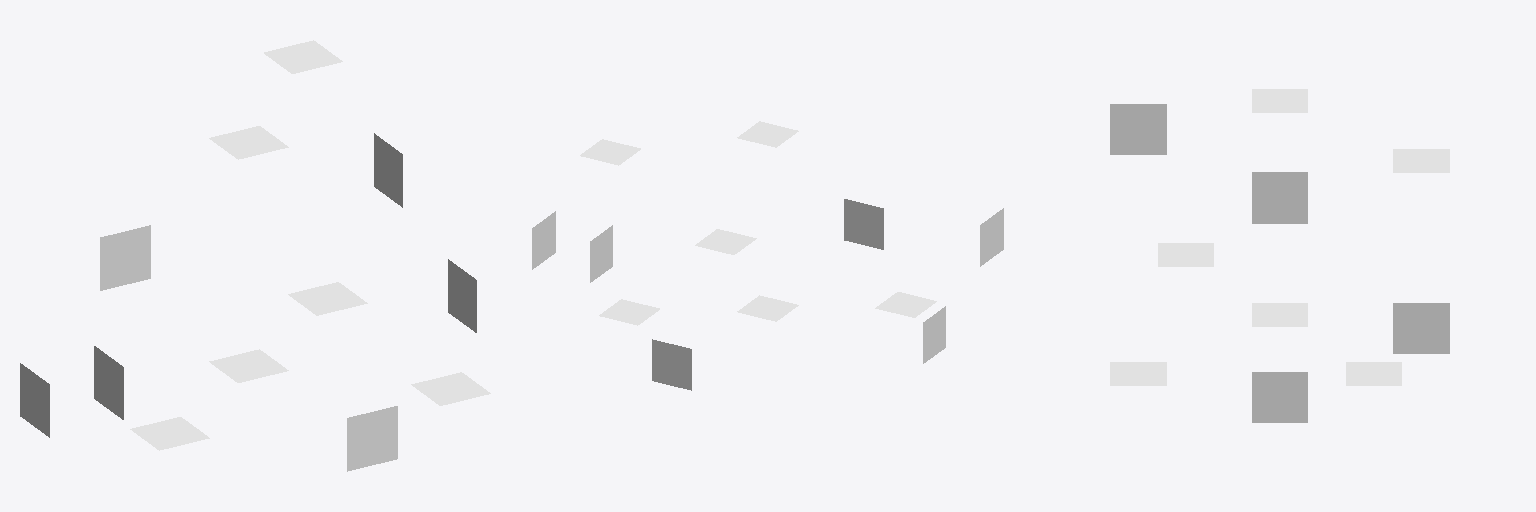
URDF robot description (marker_field_apriltags):
<?xml version="1.0"?>
<robot name="marker_field_apriltags">
  <!-- Base link -->
  <link name="world">
    <inertial>
      <mass value="0.001"/>
      <inertia ixx="1e-6" ixy="0" ixz="0" iyy="1e-6" iyz="0" izz="1e-6"/>
    </inertial>
  </link>

  <!-- Floor markers -->
  <link name="floor_center_tag0">
    <visual>
      <origin xyz="0 0 0" rpy="0 0 0"/>
      <geometry><mesh filename="tag_quad.obj" scale="0.6 0.6 0.01"/></geometry>
      <material name="tag0">
        <color rgba="1 1 1 1"/>
        <texture filename="../textures/tags_36h11/tag_0.png"/>
      </material>
    </visual>
  </link>
  <joint name="world_to_floor_center_tag0" type="fixed">
    <parent link="world"/><child link="floor_center_tag0"/><origin xyz="0 0 0" rpy="0 0 0"/>
  </joint>

  <link name="floor_gray_tag1">
    <visual>
      <origin xyz="0 0 0" rpy="0 0 0"/>
      <geometry><mesh filename="tag_quad.obj" scale="0.6 0.6 0.01"/></geometry>
      <material name="tag1">
        <color rgba="1 1 1 1"/>
        <texture filename="../textures/tags_36h11/tag_1.png"/>
      </material>
    </visual>
  </link>
  <joint name="world_to_floor_gray_tag1" type="fixed">
    <parent link="world"/><child link="floor_gray_tag1"/><origin xyz="1.5 1.0 0" rpy="0 0 0"/>
  </joint>

  <link name="floor_red_tag2">
    <visual>
      <origin xyz="0 0 0" rpy="0 0 0"/>
      <geometry><mesh filename="tag_quad.obj" scale="0.6 0.6 0.01"/></geometry>
      <material name="tag2">
        <color rgba="1 1 1 1"/>
        <texture filename="../textures/tags_36h11/tag_2.png"/>
      </material>
    </visual>
  </link>
  <joint name="world_to_floor_red_tag2" type="fixed">
    <parent link="world"/><child link="floor_red_tag2"/><origin xyz="-1.5 -1.0 0" rpy="0 0 0"/>
  </joint>

  <link name="floor_purple_tag3">
    <visual>
      <origin xyz="0 0 0" rpy="0 0 0"/>
      <geometry><mesh filename="tag_quad.obj" scale="0.6 0.6 0.01"/></geometry>
      <material name="tag3">
        <color rgba="1 1 1 1"/>
        <texture filename="../textures/tags_36h11/tag_3.png"/>
      </material>
    </visual>
  </link>
  <joint name="world_to_floor_purple_tag3" type="fixed">
    <parent link="world"/><child link="floor_purple_tag3"/><origin xyz="1.5 -1.5 0" rpy="0 0 0"/>
  </joint>

  <!-- Wall markers -->
  <link name="wall_x_tag4">
    <visual>
      <origin xyz="0 0 0" rpy="0 1.5708 0"/>
      <geometry><mesh filename="tag_quad.obj" scale="0.6 0.6 0.01"/></geometry>
      <material name="tag4">
        <color rgba="1 1 1 1"/>
        <texture filename="../textures/tags_36h11/tag_4.png"/>
      </material>
    </visual>
  </link>
  <joint name="world_to_wall_x_tag4" type="fixed">
    <parent link="world"/><child link="wall_x_tag4"/><origin xyz="2.5 0 0.2" rpy="0 0 0"/>
  </joint>

  <link name="wall_neg_x_tag5">
    <visual>
      <origin xyz="0 0 0" rpy="0 1.5708 0"/>
      <geometry><mesh filename="tag_quad.obj" scale="0.6 0.6 0.01"/></geometry>
      <material name="tag5">
        <color rgba="1 1 1 1"/>
        <texture filename="../textures/tags_36h11/tag_5.png"/>
      </material>
    </visual>
  </link>
  <joint name="world_to_wall_neg_x_tag5" type="fixed">
    <parent link="world"/><child link="wall_neg_x_tag5"/><origin xyz="-2.5 0 0.2" rpy="0 0 0"/>
  </joint>

  <link name="wall_pos_y_tag6">
    <visual>
      <origin xyz="0 0 0" rpy="1.5708 1.5708 0"/>
      <geometry><mesh filename="tag_quad.obj" scale="0.6 0.6 0.01"/></geometry>
      <material name="tag6">
        <color rgba="1 1 1 1"/>
        <texture filename="../textures/tags_36h11/tag_6.png"/>
      </material>
    </visual>
  </link>
  <joint name="world_to_wall_pos_y_tag6" type="fixed">
    <parent link="world"/><child link="wall_pos_y_tag6"/><origin xyz="0 2.5 0.2" rpy="0 0 0"/>
  </joint>

  <link name="wall_neg_y_tag7">
    <visual>
      <origin xyz="0 0 0" rpy="1.5708 1.5708 0"/>
      <geometry><mesh filename="tag_quad.obj" scale="0.6 0.6 0.01"/></geometry>
      <material name="tag7">
        <color rgba="1 1 1 1"/>
        <texture filename="../textures/tags_36h11/tag_7.png"/>
      </material>
    </visual>
  </link>
  <joint name="world_to_wall_neg_y_tag7" type="fixed">
    <parent link="world"/><child link="wall_neg_y_tag7"/><origin xyz="0 -2.5 0.2" rpy="0 0 0"/>
  </joint>

  <link name="wall_pos_x_high_tag8">
    <visual>
      <origin xyz="0 0 0" rpy="0 1.5708 0"/>
      <geometry><mesh filename="tag_quad.obj" scale="0.6 0.6 0.01"/></geometry>
      <material name="tag8">
        <color rgba="1 1 1 1"/>
        <texture filename="../textures/tags_36h11/tag_8.png"/>
      </material>
    </visual>
  </link>
  <joint name="world_to_wall_pos_x_high_tag8" type="fixed">
    <parent link="world"/><child link="wall_pos_x_high_tag8"/><origin xyz="2.5 1.5 1.0" rpy="0 0 0"/>
  </joint>

  <link name="wall_neg_x_high_tag9">
    <visual>
      <origin xyz="0 0 0" rpy="0 1.5708 0"/>
      <geometry><mesh filename="tag_quad.obj" scale="0.6 0.6 0.01"/></geometry>
      <material name="tag9">
        <color rgba="1 1 1 1"/>
        <texture filename="../textures/tags_36h11/tag_9.png"/>
      </material>
    </visual>
  </link>
  <joint name="world_to_wall_neg_x_high_tag9" type="fixed">
    <parent link="world"/><child link="wall_neg_x_high_tag9"/><origin xyz="-2.5 -1.5 1.0" rpy="0 0 0"/>
  </joint>

  <!-- Ceiling markers -->
  <link name="ceiling_tag10">
    <visual>
      <origin xyz="0 0 0" rpy="3.14159 0 0"/>
      <geometry><mesh filename="tag_quad.obj" scale="0.6 0.6 0.01"/></geometry>
      <material name="tag10">
        <color rgba="1 1 1 1"/>
        <texture filename="../textures/tags_36h11/tag_10.png"/>
      </material>
    </visual>
  </link>
  <joint name="world_to_ceiling_tag10" type="fixed">
    <parent link="world"/><child link="ceiling_tag10"/><origin xyz="0 0 2.5" rpy="0 0 0"/>
  </joint>

  <link name="ceiling_tag11">
    <visual>
      <origin xyz="0 0 0" rpy="3.14159 0 0"/>
      <geometry><mesh filename="tag_quad.obj" scale="0.6 0.6 0.01"/></geometry>
      <material name="tag11">
        <color rgba="1 1 1 1"/>
        <texture filename="../textures/tags_36h11/tag_11.png"/>
      </material>
    </visual>
  </link>
  <joint name="world_to_ceiling_tag11" type="fixed">
    <parent link="world"/><child link="ceiling_tag11"/><origin xyz="1.5 1.5 2.5" rpy="0 0 0"/>
  </joint>
</robot>

--- Facts derived from the render (not from the file) ---
3 views of the same robot in one strip: view 1: azimuth 30°, elevation 25°; view 2: azimuth 150°, elevation 25°; view 3: azimuth 270°, elevation 25° (orthographic).
Robot: marker_field_apriltags — 13 links, 12 joints (12 fixed); root link world; default pose: every joint at zero.
Visible links, largest first — view 1: wall_pos_y_tag6, wall_neg_y_tag7, wall_neg_x_tag5, wall_neg_x_high_tag9, wall_pos_x_high_tag8, wall_x_tag4, ceiling_tag10, floor_center_tag0, floor_gray_tag1, floor_purple_tag3, floor_red_tag2, ceiling_tag11; view 2: wall_pos_y_tag6, wall_neg_y_tag7, wall_pos_x_high_tag8, wall_neg_x_high_tag9, wall_x_tag4, wall_neg_x_tag5, floor_purple_tag3, floor_center_tag0, floor_gray_tag1, floor_red_tag2, ceiling_tag10, ceiling_tag11; view 3: wall_neg_x_tag5, wall_pos_x_high_tag8, wall_neg_x_high_tag9, wall_x_tag4, floor_purple_tag3, ceiling_tag11, floor_center_tag0, floor_gray_tag1, floor_red_tag2, ceiling_tag10.
Boxes of the visible links, x1=… form: wall_pos_y_tag6: x1=100, y1=225, x2=150, y2=290; wall_neg_y_tag7: x1=347, y1=406, x2=397, y2=471; wall_neg_x_tag5: x1=20, y1=363, x2=49, y2=437; wall_neg_x_high_tag9: x1=94, y1=346, x2=123, y2=419; wall_pos_x_high_tag8: x1=374, y1=133, x2=402, y2=207; wall_x_tag4: x1=448, y1=259, x2=476, y2=332; ceiling_tag10: x1=209, y1=126, x2=288, y2=159; floor_center_tag0: x1=209, y1=349, x2=288, y2=382; floor_gray_tag1: x1=288, y1=282, x2=367, y2=315; floor_purple_tag3: x1=411, y1=372, x2=490, y2=405; floor_red_tag2: x1=130, y1=417, x2=209, y2=450; ceiling_tag11: x1=264, y1=40, x2=342, y2=73; wall_pos_y_tag6: x1=652, y1=339, x2=691, y2=390; wall_neg_y_tag7: x1=844, y1=199, x2=883, y2=249; wall_pos_x_high_tag8: x1=532, y1=211, x2=555, y2=269; wall_neg_x_high_tag9: x1=980, y1=208, x2=1003, y2=266; wall_x_tag4: x1=590, y1=225, x2=612, y2=282; wall_neg_x_tag5: x1=923, y1=306, x2=945, y2=363; floor_purple_tag3: x1=695, y1=229, x2=756, y2=254; floor_center_tag0: x1=737, y1=295, x2=798, y2=321; floor_gray_tag1: x1=599, y1=299, x2=659, y2=325; floor_red_tag2: x1=875, y1=292, x2=936, y2=317; ceiling_tag10: x1=737, y1=121, x2=798, y2=147; ceiling_tag11: x1=580, y1=139, x2=640, y2=165; wall_neg_x_tag5: x1=1252, y1=172, x2=1307, y2=223; wall_pos_x_high_tag8: x1=1393, y1=303, x2=1449, y2=353; wall_neg_x_high_tag9: x1=1110, y1=104, x2=1166, y2=154; wall_x_tag4: x1=1252, y1=372, x2=1307, y2=422; floor_purple_tag3: x1=1110, y1=362, x2=1166, y2=385; ceiling_tag11: x1=1393, y1=149, x2=1449, y2=172; floor_center_tag0: x1=1252, y1=303, x2=1307, y2=326; floor_gray_tag1: x1=1346, y1=362, x2=1401, y2=385; floor_red_tag2: x1=1158, y1=243, x2=1213, y2=266; ceiling_tag10: x1=1252, y1=89, x2=1307, y2=112.
Size in the robot's own frame: 5 by 5 by 2.6 metres.
Meshes: 1 distinct files referenced, 12 mesh visuals loaded (1 OBJ).